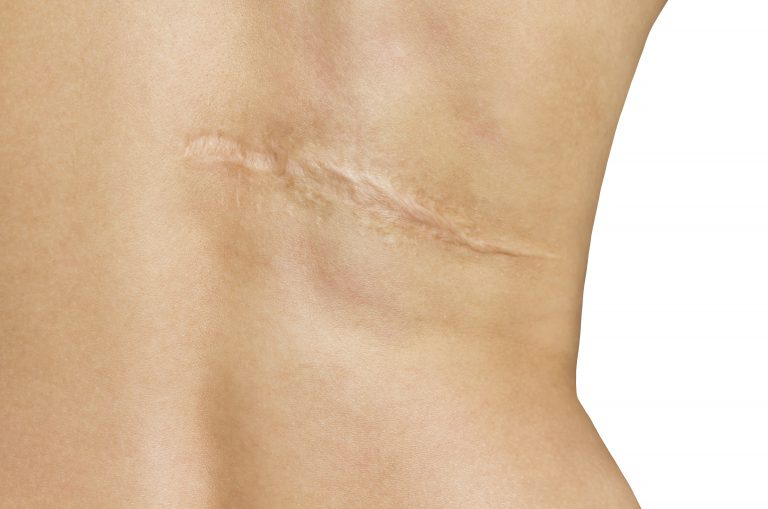scar: (169, 119, 564, 266)
